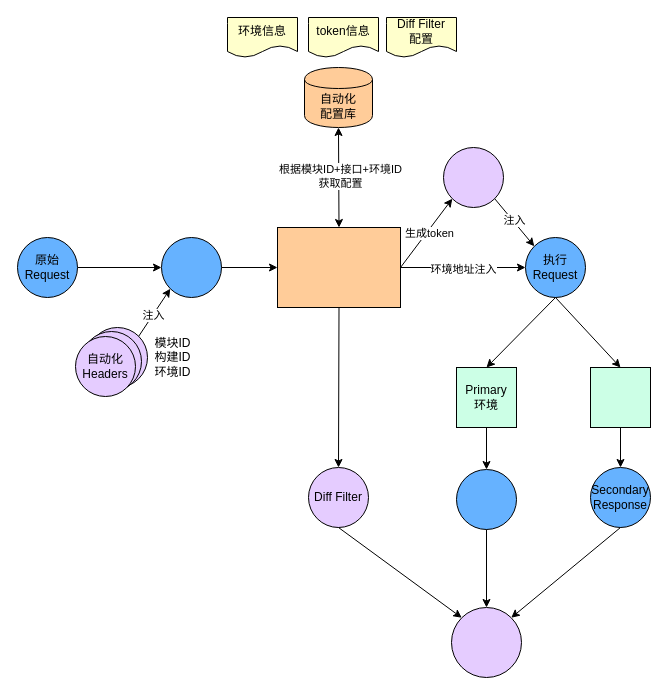
This 668x695 diagram has some shape labels left out. Here are the shapes that lost their labels. From the top down, the centre of each, then its label:
pixel 473 177: Token Header
pixel 191 267: 拼装 Request
pixel 338 267: NewDiffyProxy
pixel 620 397: Secondary 环境
pixel 486 499: Primary Response
pixel 486 642: Filtered Differences
